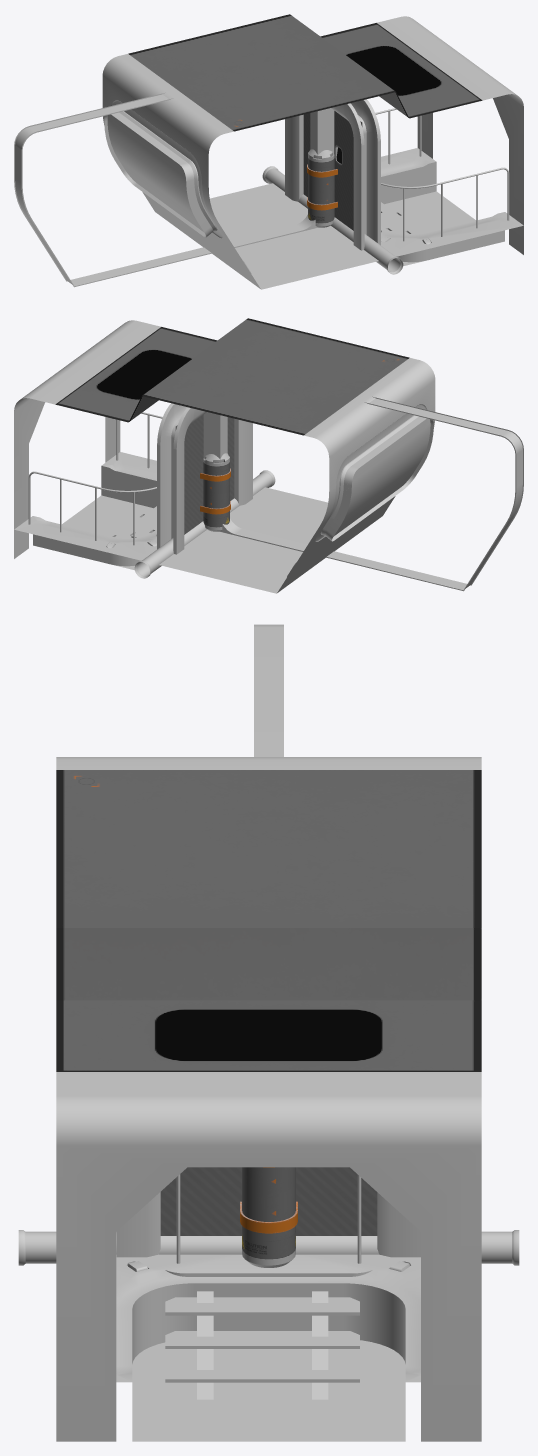
Rendered from Corridor_p1.fbx.
The picture shows the model from 3 angles, top to bottom: view 1: azimuth 30°, elevation 25°; view 2: azimuth 150°, elevation 25°; view 3: azimuth 270°, elevation 25°; orthographic projection. The views are drawn at different scales.
Visible parts, largest first — view 1: Ceiling_01, Floor_01, Wall_02, Wall_01, Door_Canvas, Structure_01, Glass_02, Window_01, Wall_03, Door_R, Tanks_01, Floor_02 (+5 smaller); view 2: Ceiling_01, Floor_01, Wall_02, Wall_01, Door_Canvas, Structure_01, Glass_02, Window_01, Wall_03, Door_L, Tanks_01, Floor_02 (+5 smaller); view 3: Ceiling_01, Wall_01, Floor_02, Stairs_01, Floor_01, Wall_03, Pipe_Large, Wall_02, Tanks_01, Door_R, Door_L, Door_Canvas (+1 smaller).
Part boxes in pixels (box(x1,y1,x2,y2)): Ceiling_01: box(128, 14, 482, 131); Floor_01: box(210, 148, 523, 289); Wall_02: box(102, 54, 260, 288); Wall_01: box(377, 16, 523, 254); Door_Canvas: box(285, 99, 380, 250); Structure_01: box(14, 92, 334, 287); Glass_02: box(107, 114, 203, 231); Window_01: box(104, 100, 222, 238); Wall_03: box(381, 165, 504, 262); Door_R: box(334, 111, 362, 230); Tanks_01: box(307, 149, 337, 227); Floor_02: box(384, 191, 475, 266); Ceiling_01: box(55, 318, 409, 435); Floor_01: box(14, 452, 327, 593); Wall_02: box(277, 358, 435, 592); Wall_01: box(14, 320, 160, 558); Door_Canvas: box(157, 403, 252, 554); Structure_01: box(203, 396, 523, 591); Glass_02: box(334, 418, 430, 535); Window_01: box(315, 404, 433, 541); Wall_03: box(33, 469, 156, 566); Door_L: box(175, 415, 203, 534); Tanks_01: box(200, 453, 230, 531); Floor_02: box(62, 495, 153, 570); Ceiling_01: box(56, 770, 481, 1071); Wall_01: box(56, 1072, 481, 1441); Floor_02: box(132, 1340, 405, 1441); Stairs_01: box(165, 1291, 359, 1399); Floor_01: box(116, 1254, 420, 1382); Wall_03: box(132, 1286, 405, 1363); Pipe_Large: box(18, 1230, 519, 1265); Wall_02: box(56, 757, 481, 769); Tanks_01: box(240, 1167, 297, 1267); Door_R: box(160, 1167, 241, 1235); Door_L: box(296, 1167, 377, 1235); Door_Canvas: box(116, 1192, 420, 1257).
Bounding box in the file's own units: 8.62 × 3.54 × 4.13.
